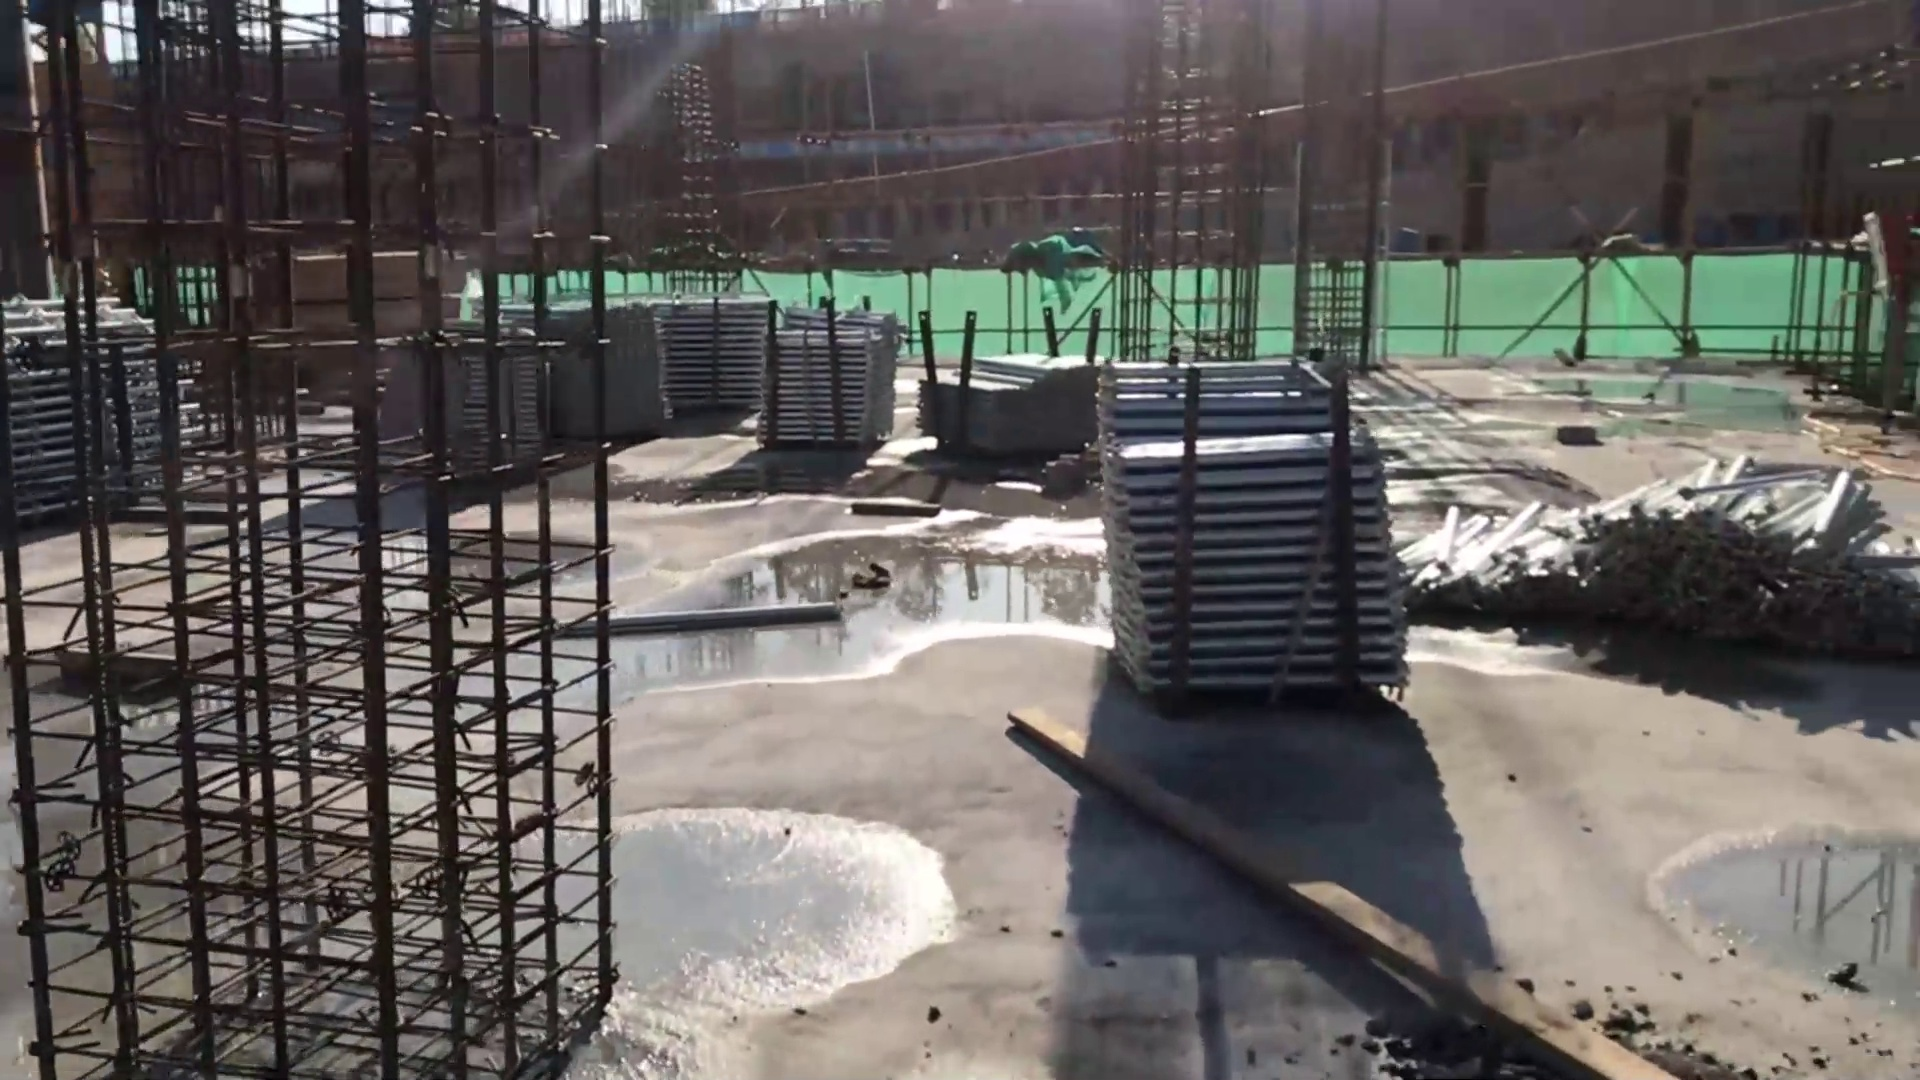scaffold: (1102, 349, 1416, 707), (1, 299, 156, 529), (752, 310, 905, 442), (924, 349, 1098, 462), (655, 291, 781, 418)
